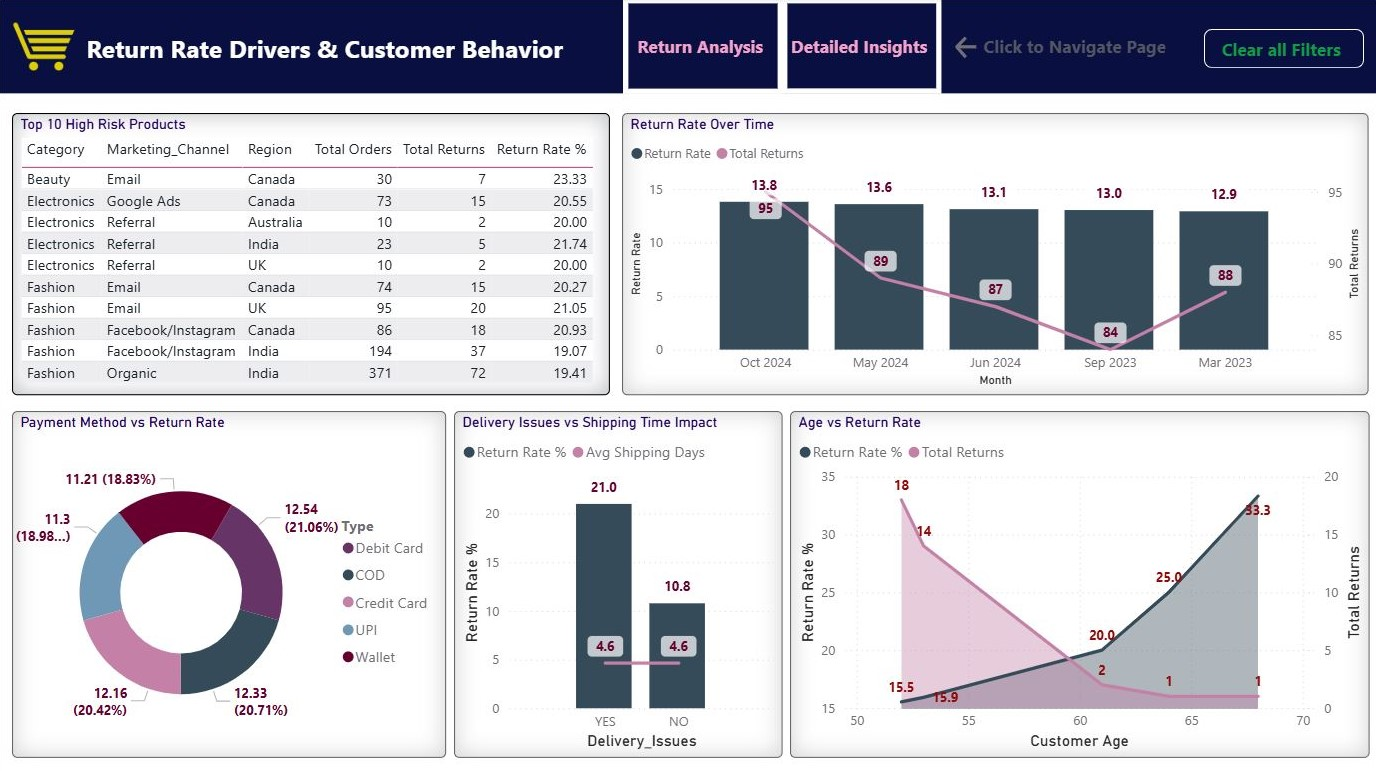

Layout of this report page (visuals, bound fields, positions):
{"tool":"powerbi","page":{"name":"Deep Dive Dashboard","canvas":[1280,720],"ordinal":1},"visuals":[{"type":"shape","box":[0,0,1280,88.5],"z":0},{"type":"actionButton","box":[76.9,27.2,450.8,38.9],"z":0,"group":"g1"},{"type":"shape","box":[906,27.8,190.3,32.5],"z":0,"group":"g2"},{"type":"image","box":[0,0,88.7,88.7],"z":1000,"group":"g1"},{"type":"actionButton","box":[883.7,31.5,28.8,28.8],"z":1000,"group":"g2"},{"type":"tableEx","title":"Top 10 High Risk Products","fields":{"Values":["High Risk Products.category","High Risk Products.marketing_channel","High Risk Products.region","Sum(High Risk Products.total_orders)","Sum(High Risk Products.total_returns)","Sum(High Risk Products.return_rate_pct)"]},"box":[11.7,107,555.4,261.6],"z":1000},{"type":"areaChart","title":"Age vs Return Rate","fields":{"Category":["Age vs Return Rate.customer_age"],"Y":["Sum(Age vs Return Rate.return_rate_pct)"],"Y2":["Sum(Age vs Return Rate.total_returns)"]},"box":[734.3,383.2,537.9,321.9],"z":2000},{"type":"lineStackedColumnComboChart","title":"Return Rate Over Time","fields":{"Category":["Return Rate Over Time.month"],"Y":["Sum(Return Rate Over Time.return_rate_pct)"],"Y2":["Sum(Return Rate Over Time.total_returns)"]},"box":[578.7,107,693.5,261.6],"z":3000},{"type":"shape","box":[1118.5,28.8,148.5,36.2],"z":4000},{"type":"donutChart","title":"Payment Method vs Return Rate","fields":{"Category":["Payment Method vs Return Rate.payment_type"],"Y":["Sum(Payment Method vs Return Rate.return_rate_pct)"]},"box":[11.8,382.9,402.8,322.3],"z":5000},{"type":"lineClusteredColumnComboChart","title":"Delivery Issues vs Shipping Time Impact","fields":{"Category":["Delivery Issues + Shipping Time.delivery_issue"],"Y":["Sum(Delivery Issues + Shipping Time.return_rate_pct)"],"Y2":["Avg(Delivery Issues + Shipping Time.avg_shipping_days)"]},"box":[422.7,382.9,305.1,322.3],"z":6000},{"type":"group","id":"g1","title":"Group 1","box":[0,0,527.8,88.7],"z":7000},{"type":"shape","box":[579.2,0,148.5,89.1],"z":7001},{"type":"shape","box":[727.2,0,148.1,88.9],"z":7002},{"type":"group","id":"g2","title":"Group 2","box":[883.7,27.8,212.6,32.5],"z":7003}]}

Visuals, with their boxes in screenshot pixels (x1, y1, x2, y2), scaled from the page's 1280x720 canvas onto the 1376x771 screenshot:
shape: select_region(0, 0, 1375, 95)
actionButton: select_region(83, 29, 567, 71)
shape: select_region(974, 30, 1179, 65)
image: select_region(0, 0, 95, 95)
actionButton: select_region(950, 34, 981, 65)
"Top 10 High Risk Products" tableEx: select_region(13, 115, 610, 395)
"Age vs Return Rate" areaChart: select_region(789, 410, 1368, 755)
"Return Rate Over Time" lineStackedColumnComboChart: select_region(622, 115, 1368, 395)
shape: select_region(1202, 31, 1362, 70)
"Payment Method vs Return Rate" donutChart: select_region(13, 410, 446, 755)
"Delivery Issues vs Shipping Time Impact" lineClusteredColumnComboChart: select_region(454, 410, 782, 755)
"Group 1" group: select_region(0, 0, 567, 95)
shape: select_region(623, 0, 782, 95)
shape: select_region(782, 0, 941, 95)
"Group 2" group: select_region(950, 30, 1179, 65)
